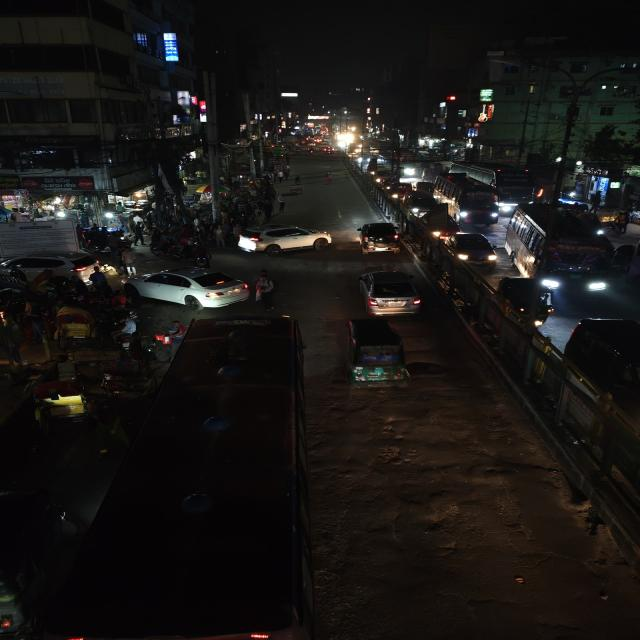bus: (85, 316, 316, 640), (506, 204, 611, 294), (436, 173, 499, 224)
car: (565, 314, 640, 458), (123, 265, 251, 309), (353, 267, 424, 317), (0, 248, 109, 279), (234, 222, 333, 255), (440, 231, 498, 267), (355, 220, 402, 254), (402, 193, 446, 219)
cng: (0, 482, 70, 640), (340, 316, 413, 392), (495, 274, 557, 328), (594, 203, 626, 231)
motorcycle: (154, 318, 184, 347)
pedestrian: (118, 245, 140, 276), (209, 223, 227, 249), (276, 194, 289, 212)
rickshaw: (23, 369, 109, 433), (0, 274, 43, 345), (97, 350, 154, 400), (51, 310, 96, 350)
